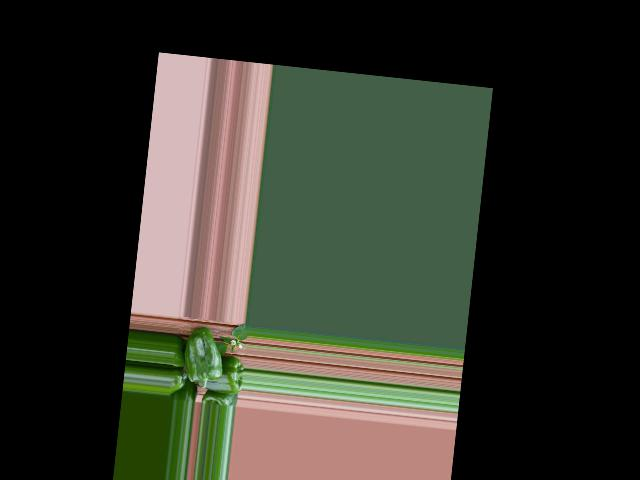bell_pepper: (168, 370, 189, 398)
